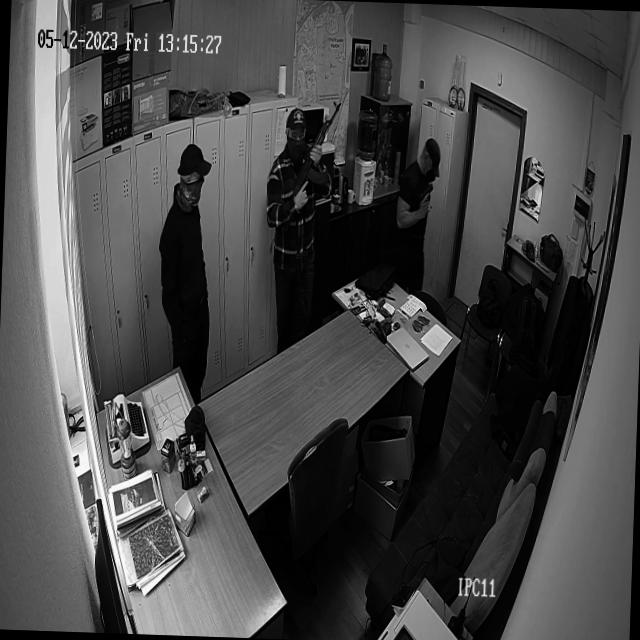gun: (292, 100, 342, 210), (419, 184, 434, 222)
person: (158, 146, 215, 371)
person with a gun: (264, 98, 342, 365), (392, 132, 441, 270)
